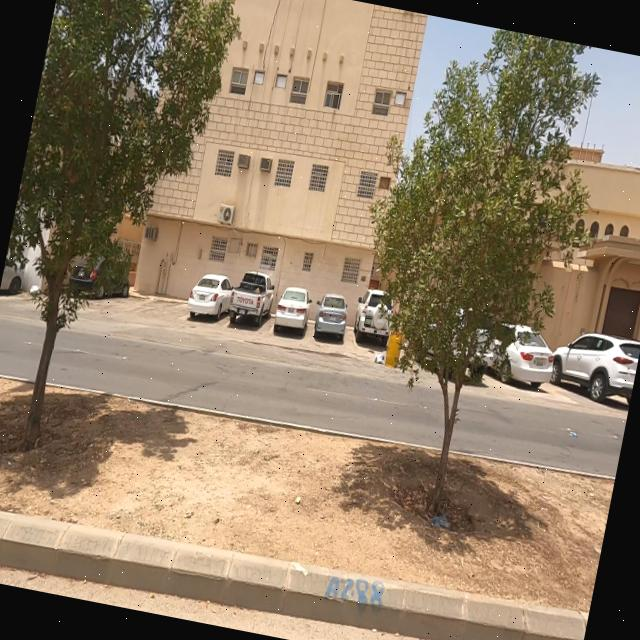Graffiti: (324, 571, 390, 614)
